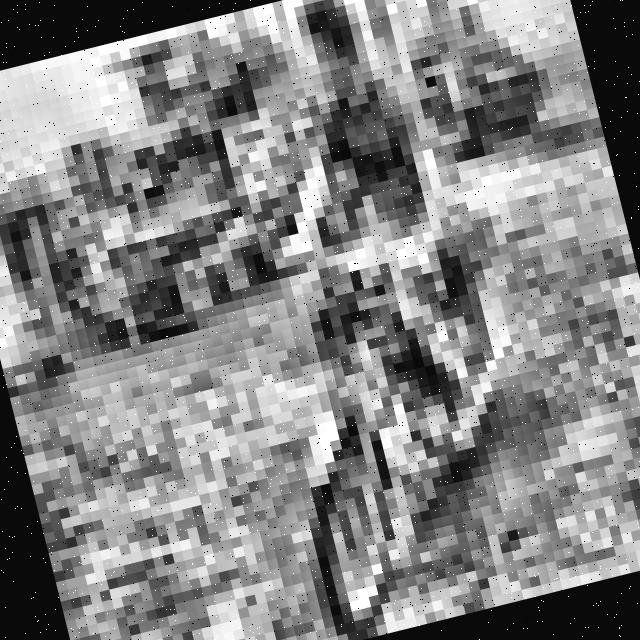mopeds: (208, 191, 566, 640)
